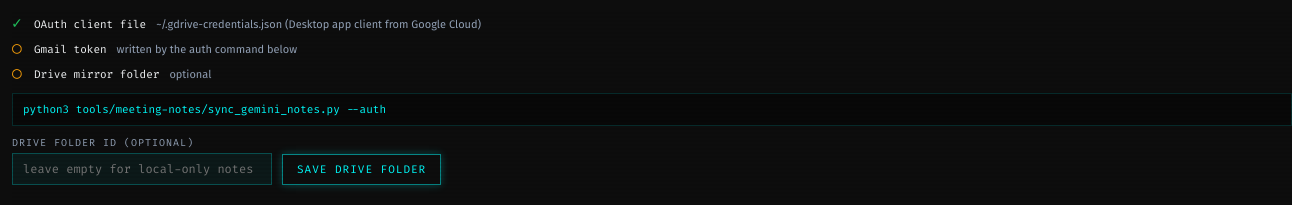
Scenario: renders the three checks, the auth command and saves the Drive folder id
Expected: the text "python3 tools/meeting-notes/sync_gemini_notes.py --auth" is shown, x1=12 y1=93 x2=1291 y2=126
Type "abc123" into the field labelled "Drive folder id (optional)".
click(142, 169); type("abc123")  # box x1=12 y1=153 x2=272 y2=185
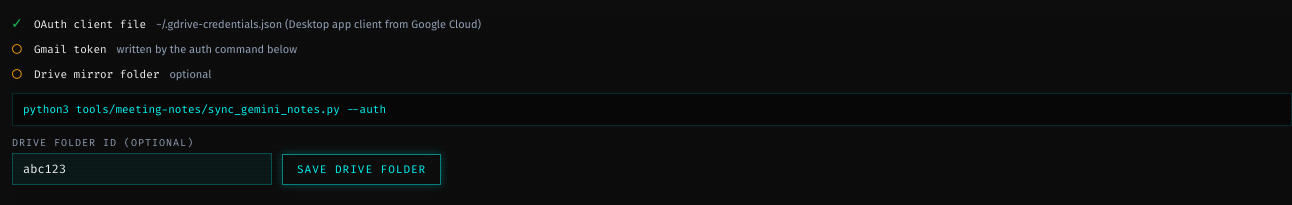
Click the button "Save Drive folder".
click(362, 170)  # box x1=282 y1=154 x2=441 y2=185
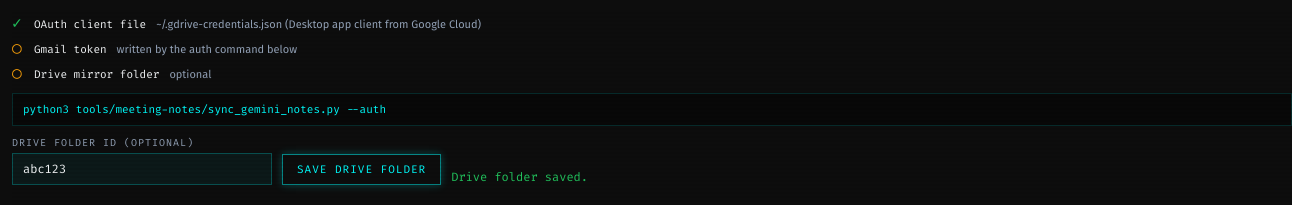
Expected: the text "Drive folder saved." is shown, x1=451 y1=169 x2=588 y2=185
